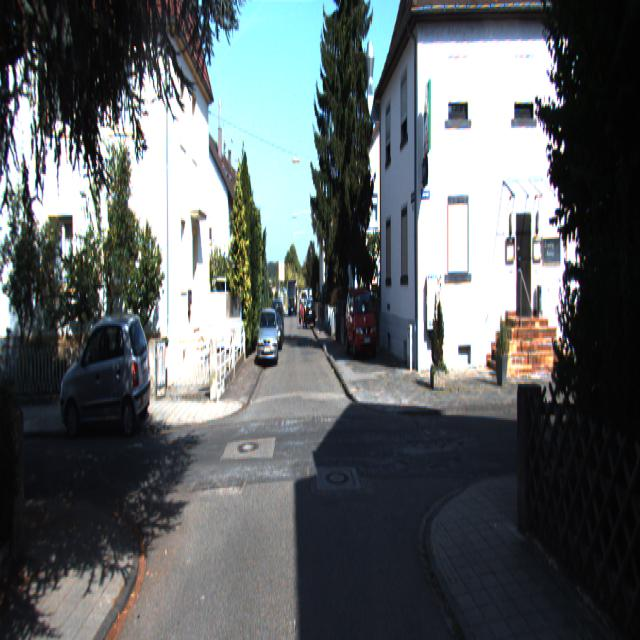Car: (60, 307, 154, 434), (345, 278, 378, 355), (258, 306, 278, 366)
